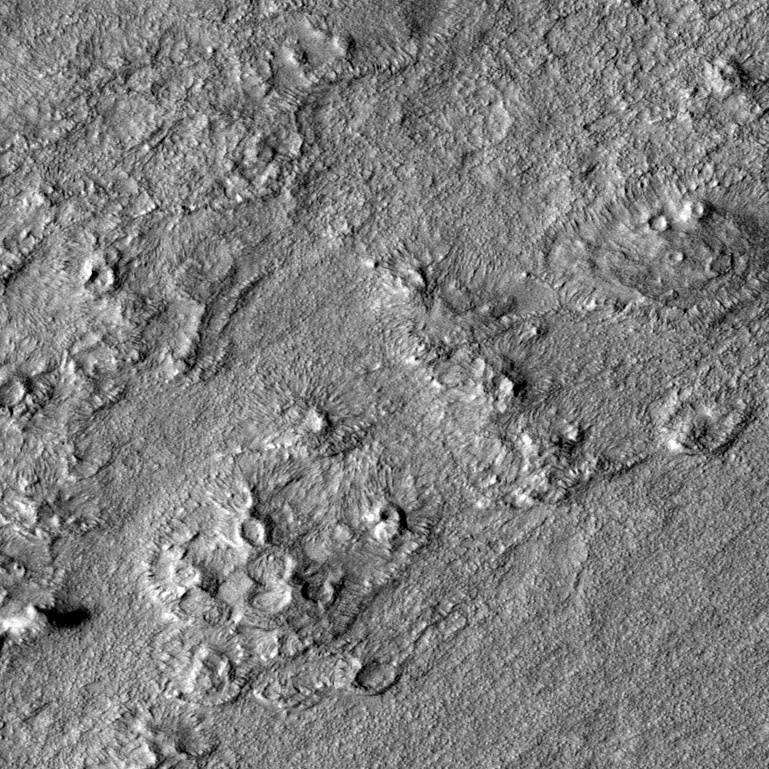dust_devil: (1, 600, 94, 638)
